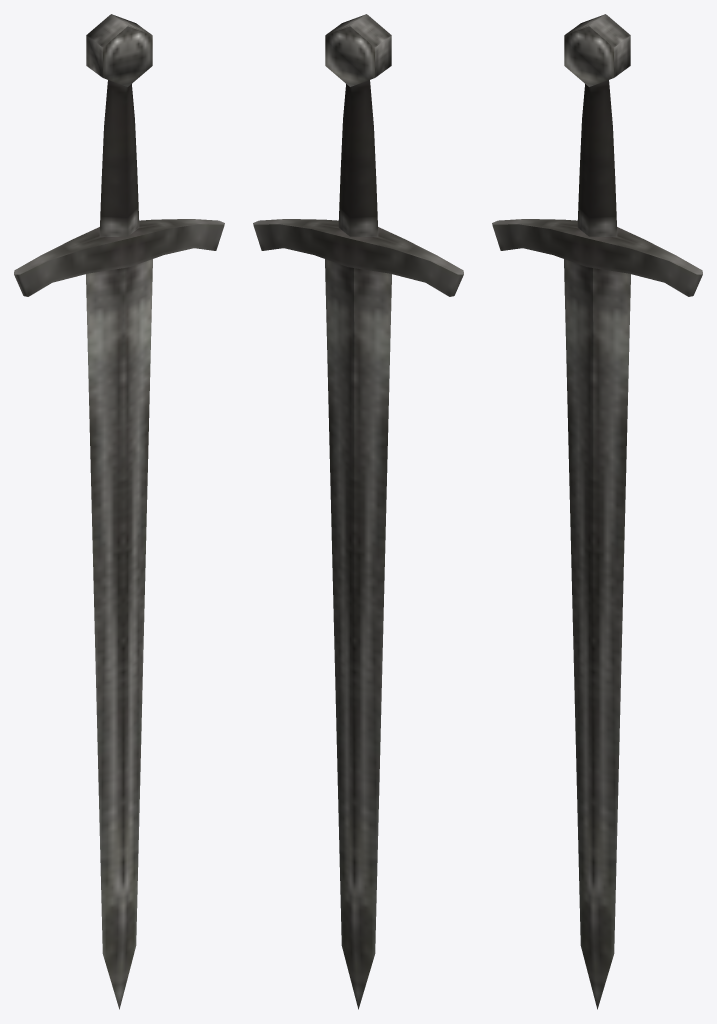
The model's file is swordMonster.glb.
3 renders of one model, left to right at view 1: azimuth 30°, elevation 25°; view 2: azimuth 150°, elevation 25°; view 3: azimuth 330°, elevation 25°, orthographic.
Visible parts, largest first — view 1: Espada; view 2: Espada; view 3: Espada.
Part boxes in pixels (x1=…): Espada: x1=14, y1=14, x2=224, y2=1009; Espada: x1=253, y1=14, x2=463, y2=1009; Espada: x1=492, y1=14, x2=702, y2=1009.
Size of the model in its own units: 0.2104 by 0.9434 by 0.0367.
Materials: 1 (1 with a texture image).
